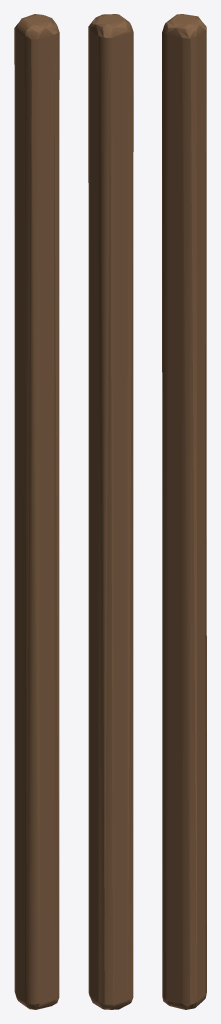
Rendered from ShopCornerPost90.glb.
3 renders of one model, left to right at view 1: azimuth 30°, elevation 25°; view 2: azimuth 210°, elevation 25°; view 3: azimuth 330°, elevation 25°, orthographic.
Visible parts, largest first — view 1: PBK_ShopCornerPost90.021; view 2: PBK_ShopCornerPost90.021; view 3: PBK_ShopCornerPost90.021.
Part boxes in pixels (box(x1,y1,x2,y2)): PBK_ShopCornerPost90.021: box(14, 14, 59, 1009); PBK_ShopCornerPost90.021: box(88, 14, 133, 1009); PBK_ShopCornerPost90.021: box(162, 14, 206, 1009).
Bounding box in the file's own units: 0.1 × 2.84 × 0.1.
